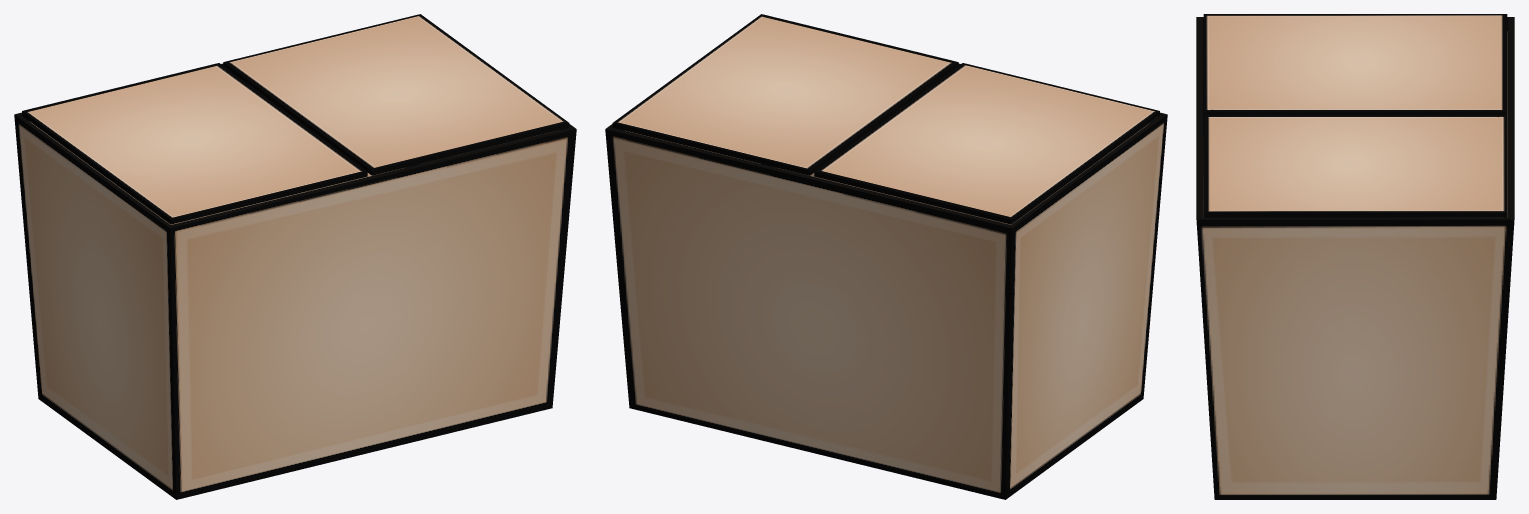
File: Box_Wide.fbx
3 views of the same model, side by side, from view 1: azimuth 30°, elevation 25°; view 2: azimuth 150°, elevation 25°; view 3: azimuth 270°, elevation 25° (orthographic). The views are drawn at different scales.
Parts seen in each view (by area): view 1: b_Wide_Base, b_Wide_Flap_01, b_Wide_Flap_02; view 2: b_Wide_Base, b_Wide_Flap_01, b_Wide_Flap_02; view 3: b_Wide_Base, b_Wide_Flap_02, b_Wide_Flap_01.
Boxes of the visible parts, left/top/right/bottom form: b_Wide_Base: left=14, top=63, right=576, bottom=499; b_Wide_Flap_01: left=22, top=63, right=367, bottom=224; b_Wide_Flap_02: left=223, top=14, right=569, bottom=175; b_Wide_Base: left=605, top=63, right=1167, bottom=499; b_Wide_Flap_01: left=814, top=63, right=1159, bottom=224; b_Wide_Flap_02: left=612, top=14, right=958, bottom=175; b_Wide_Base: left=1196, top=17, right=1514, bottom=499; b_Wide_Flap_02: left=1203, top=114, right=1507, bottom=217; b_Wide_Flap_01: left=1203, top=14, right=1507, bottom=114.
Bounding box in the file's own units: 15.09 × 10.17 × 10.
1 material, 1 textured.
